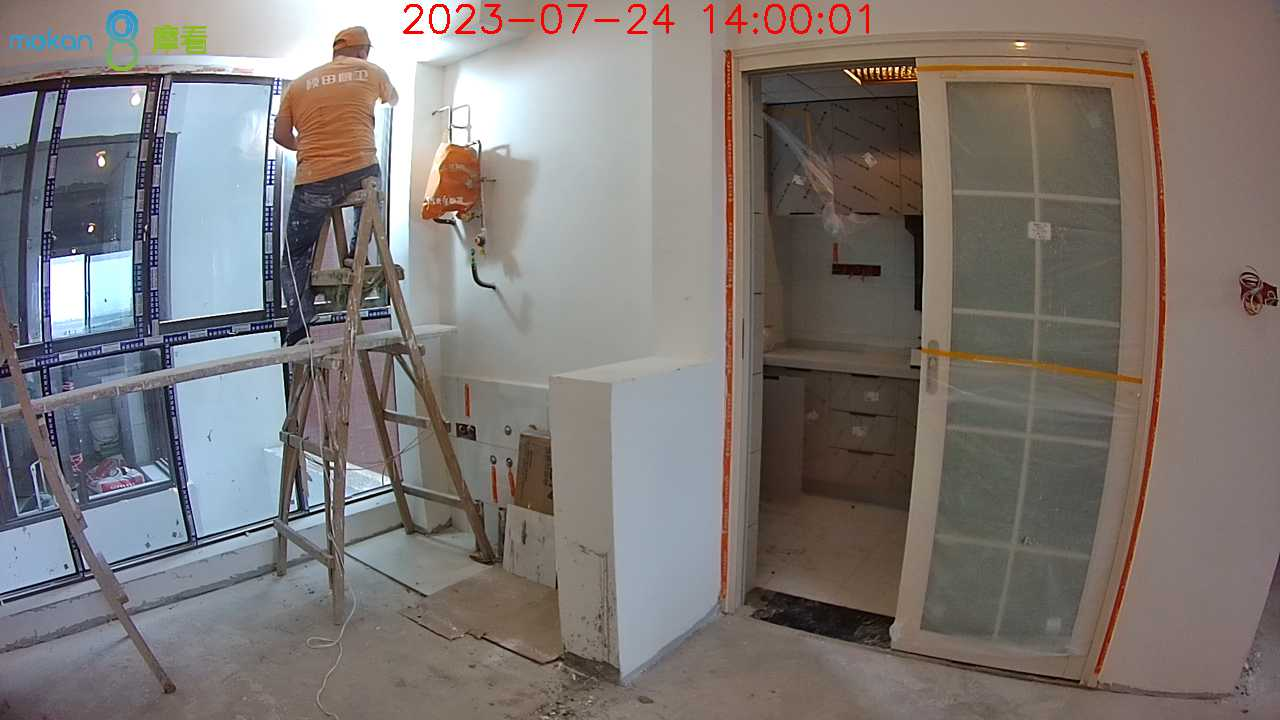people: (269, 26, 402, 351)
window: (5, 91, 411, 549)
